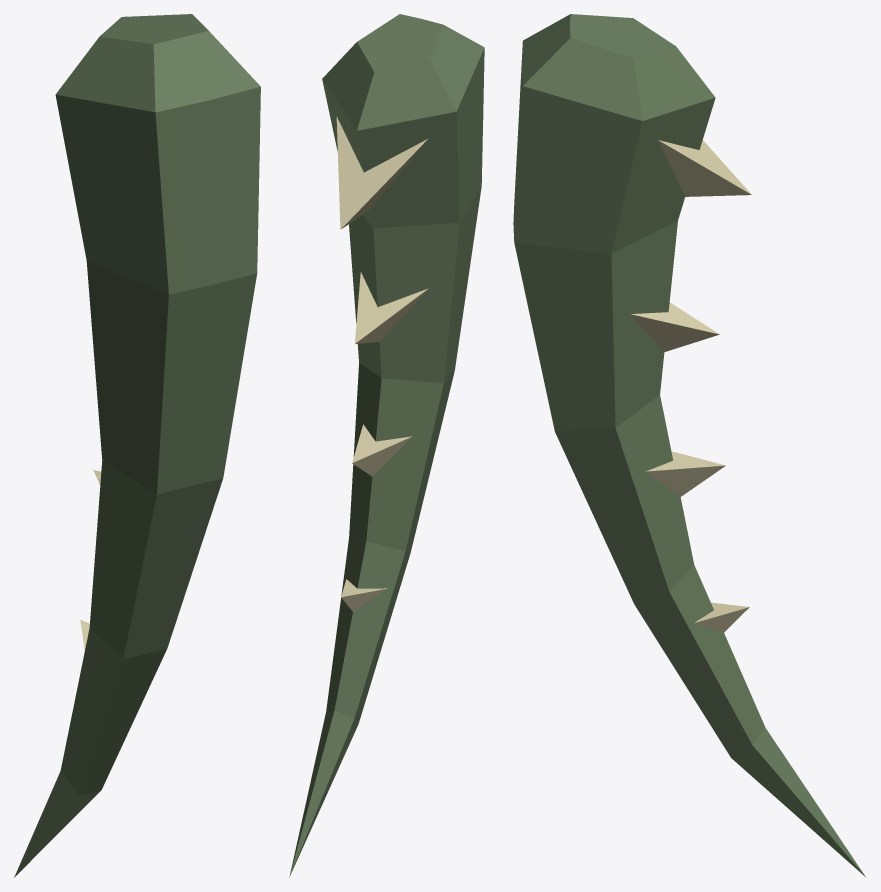
Rendered from LegEndRF.fbx.
The picture shows the model from 3 angles, left to right: view 1: azimuth 30°, elevation 25°; view 2: azimuth 150°, elevation 25°; view 3: azimuth 270°, elevation 25°; orthographic projection. The views are drawn at different scales.
Visible parts, largest first — view 1: Claw13; view 2: Claw13; view 3: Claw13.
Part boxes in pixels (x1,y1,x2,y2): Claw13: (14,14,260,877); Claw13: (289,14,484,877); Claw13: (513,14,865,876).
Bounding box in the file's own units: 0.3512 × 1.9 × 0.7136.
